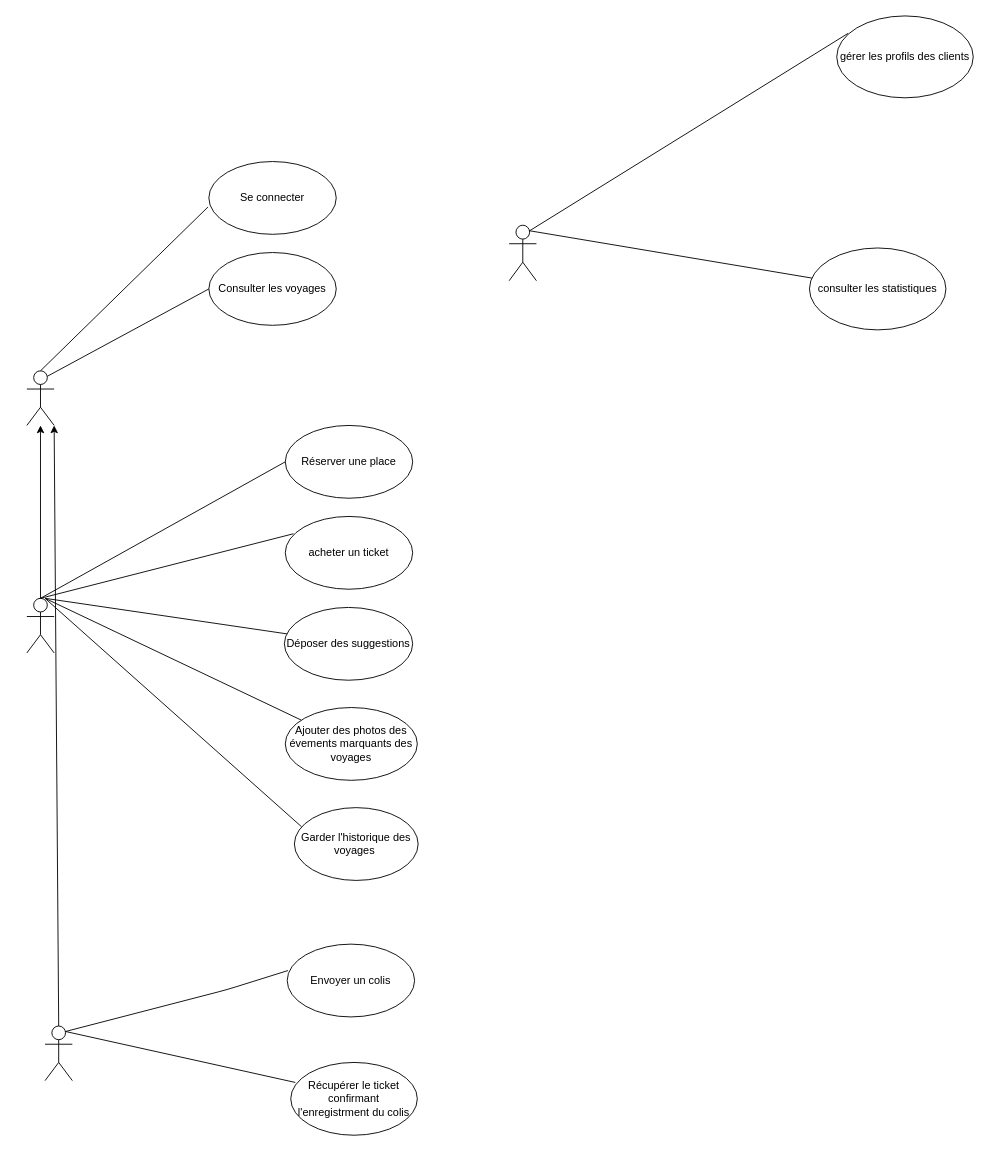
Some shapes in this 989 by 1151 pixel diagram are drawn without their labels. The box of each missing label's shape, as (x1, y1, x2, y2) in pixels:
Client: (26, 370, 54, 425)
Expéditeur: (44, 1025, 72, 1081)
Gérant: (508, 224, 536, 281)
Passager: (26, 597, 54, 653)
